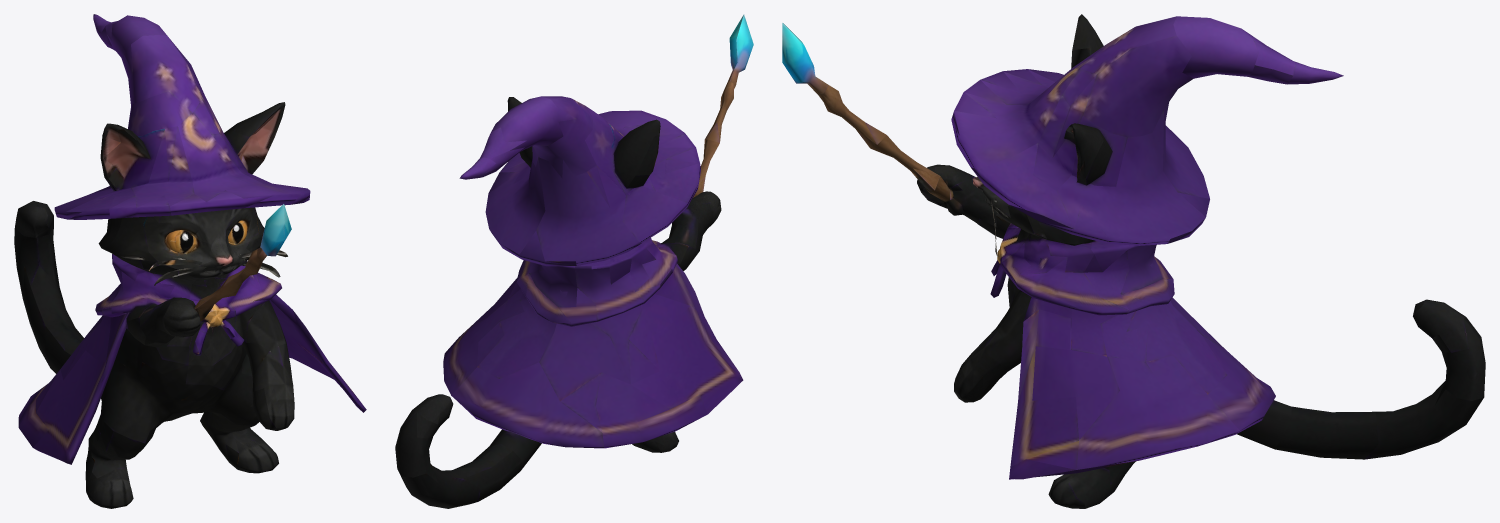
File: พ่อมดชอบกี้กี้.glb
The picture shows the model from 3 angles, left to right: view 1: azimuth 30°, elevation 25°; view 2: azimuth 150°, elevation 25°; view 3: azimuth 270°, elevation 25°; orthographic projection. The views are drawn at different scales.
Parts seen in each view (by area): view 1: mesh_node; view 2: mesh_node; view 3: mesh_node.
Part boxes in pixels (x1=…): mesh_node: x1=14, y1=14, x2=366, y2=508; mesh_node: x1=395, y1=14, x2=753, y2=508; mesh_node: x1=782, y1=14, x2=1485, y2=508.
Size of the model in its own units: 0.5352 by 0.7051 by 1.
1 material, 1 textured.
